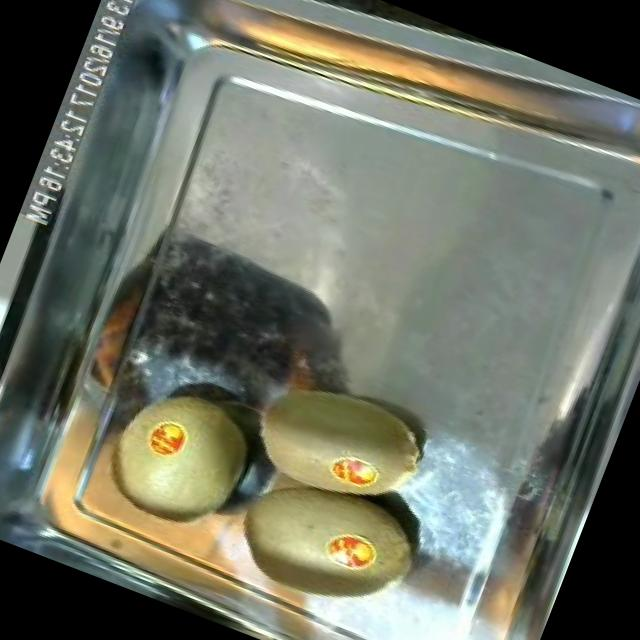Fruit: (225, 350, 448, 532), (102, 364, 280, 556)
